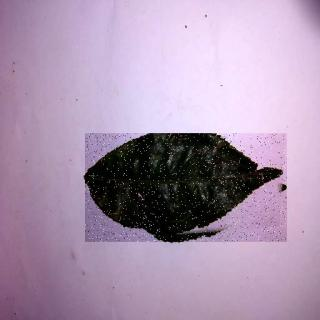Bird Eye Spot: (86, 135, 288, 244)
